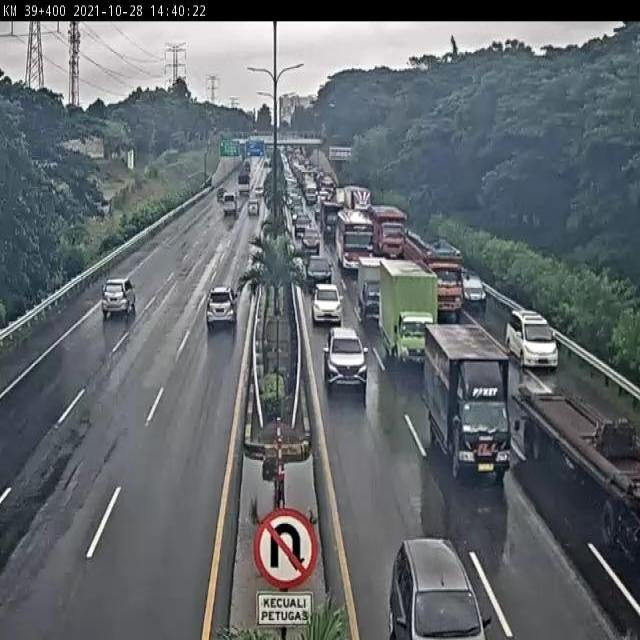big bus: (331, 210, 372, 274)
car: (391, 536, 481, 637), (507, 306, 560, 371), (323, 326, 365, 386), (102, 279, 139, 317), (205, 285, 237, 324), (311, 281, 340, 320), (460, 273, 491, 307), (305, 258, 331, 286)
mid truck: (402, 229, 459, 312), (374, 203, 406, 260)
small truck: (426, 325, 510, 476), (374, 259, 433, 357), (353, 249, 385, 315)
